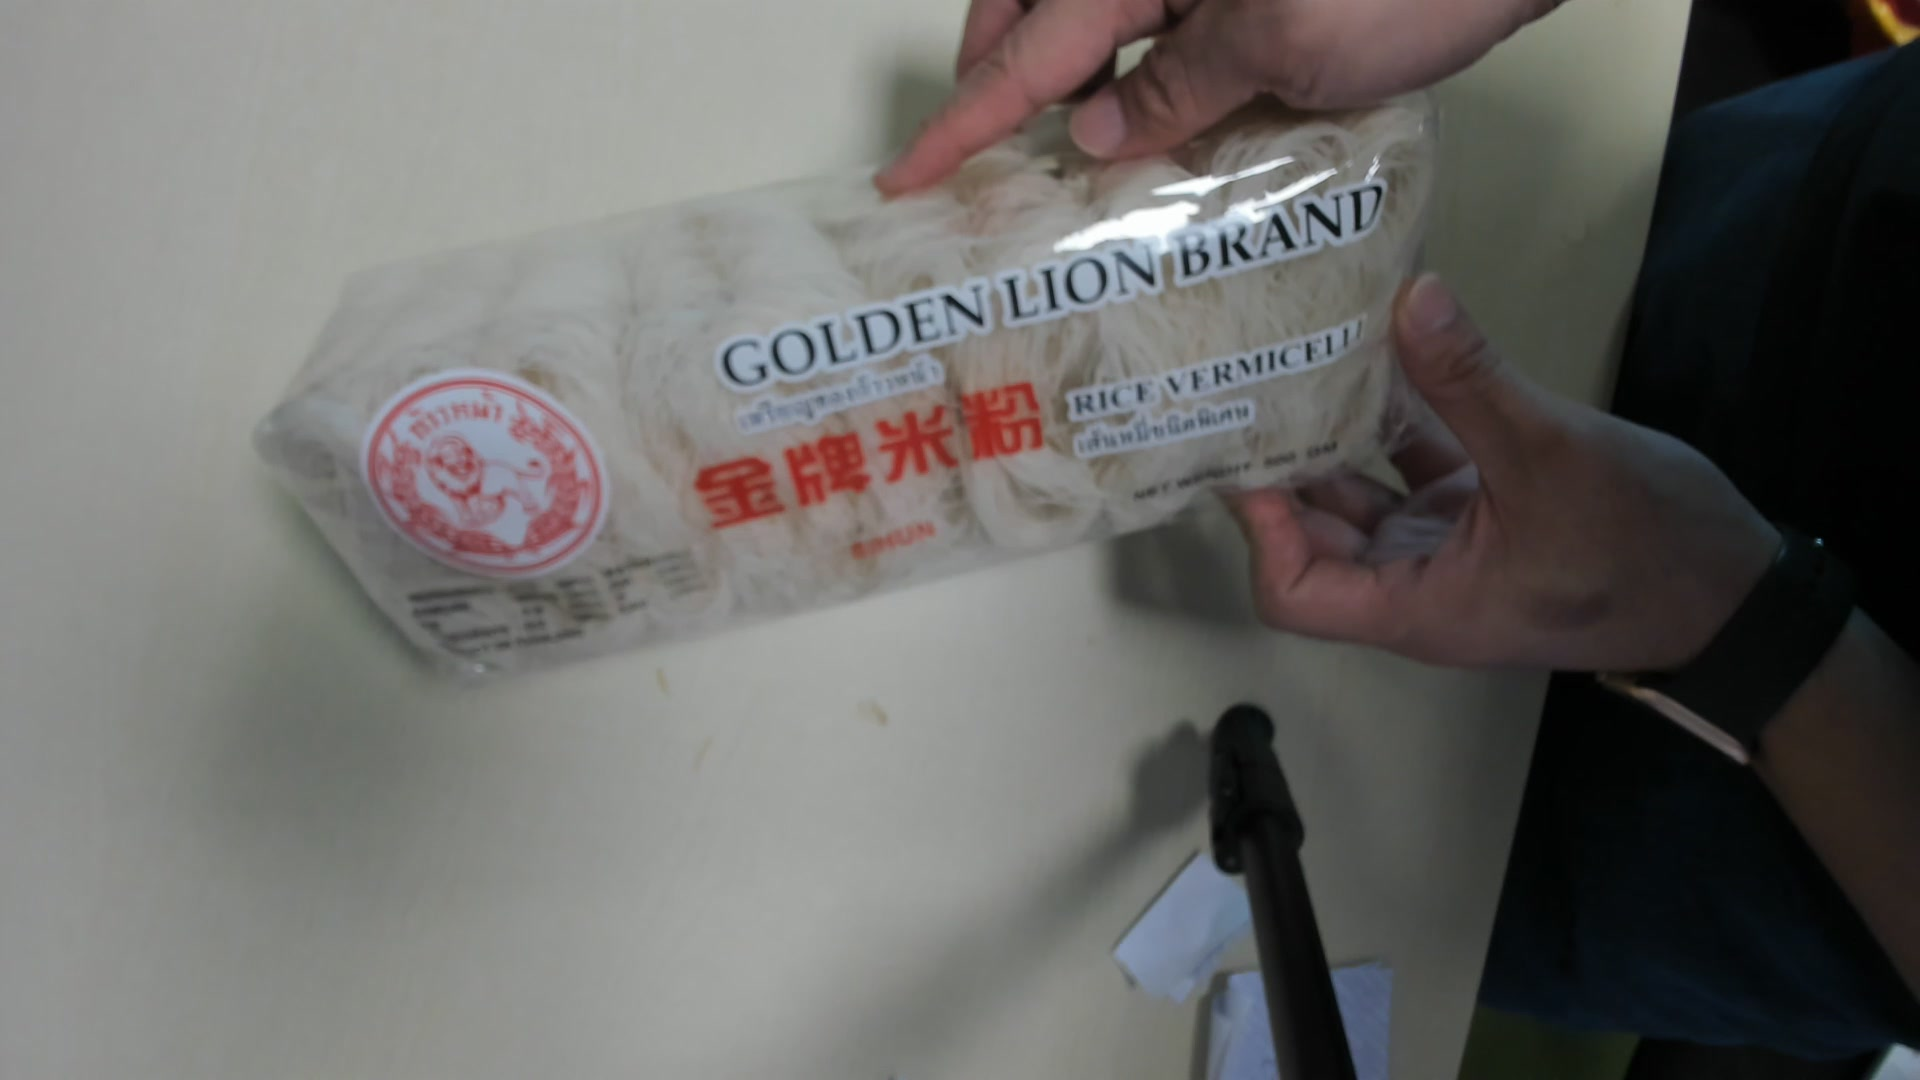BeeHoonVermicelli_500-599g_Halal_NonHealthy: (255, 109, 1428, 682)
